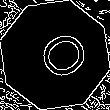O_SW: (23, 24, 87, 86)
